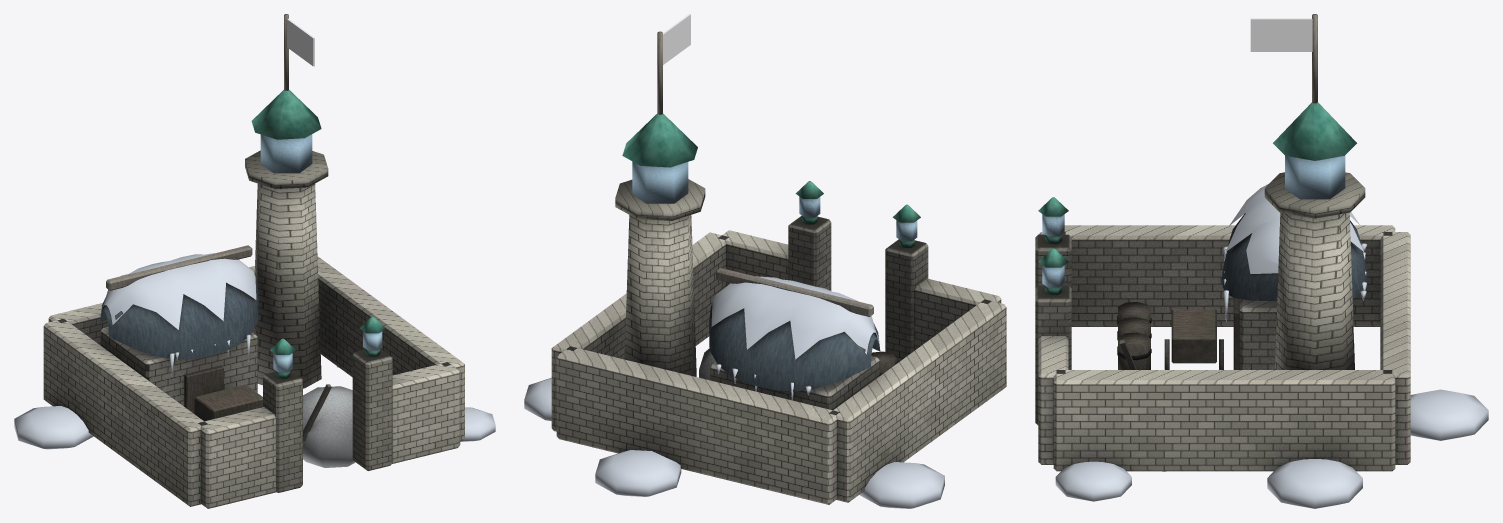
Rendered from salz_outpost.glb.
3 renders of one model, left to right at view 1: azimuth 30°, elevation 25°; view 2: azimuth 150°, elevation 25°; view 3: azimuth 270°, elevation 25°, orthographic. The views are drawn at different scales.
Visible parts, largest first — view 1: salz_outpost, Schnee, Fahne1; view 2: salz_outpost, Schnee, Fahne1; view 3: salz_outpost, Schnee, Fahne1.
Part boxes in pixels (x1,y1,x2,y2): salz_outpost: (43, 14, 464, 508); Schnee: (14, 253, 495, 449); Fahne1: (287, 18, 314, 66); salz_outpost: (551, 31, 1006, 504); Schnee: (524, 276, 944, 508); Fahne1: (663, 14, 690, 64); salz_outpost: (1035, 14, 1410, 471); Schnee: (1055, 184, 1488, 508); Fahne1: (1250, 18, 1312, 51).
Bounding box in the file's own units: 5.15 × 5.05 × 4.51.
3 materials, 1 textured.
